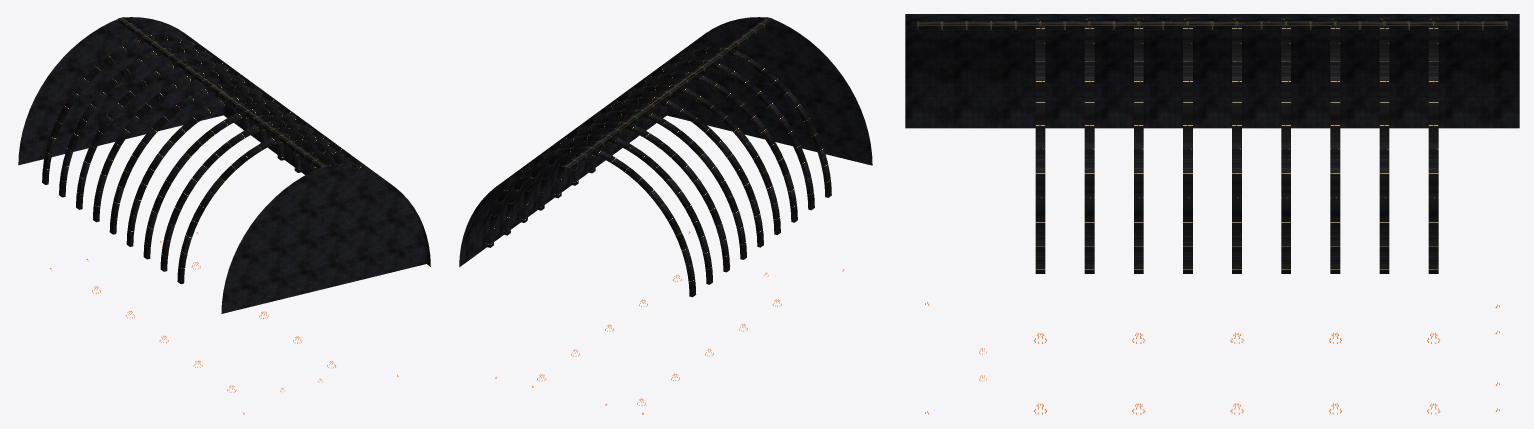
Rendered from BossHallNoShadow.fbx.
3 views of the same model, side by side, from view 1: azimuth 30°, elevation 25°; view 2: azimuth 150°, elevation 25°; view 3: azimuth 270°, elevation 25° (orthographic). The views are drawn at different scales.
Parts seen in each view (by area): view 1: Gable.001, Gable, Vault, Rib.006, Rib.001, Rib, Rib.002, Rib.005, Rib.007, Rib.003, Rib.004, Rib.008 (+1 smaller); view 2: Gable.001, Vault, Rib, Rib.005, Rib.001, Rib.006, Rib.002, Rib.007, Rib.003, Rib.008, Rib.004, RidgeRib; view 3: Vault, RidgeRib, Rib, Rib.001, Rib.008, Rib.004, Rib.005, Rib.002, Rib.003, Rib.006, Rib.007, Flames.
Part boxes in pixels (x1,y1,x2,y2): Gable.001: (221,165,426,313); Gable: (18,17,223,165); Vault: (189,36,430,266); Rib.006: (93,71,301,222); Rib.001: (76,59,284,209); Rib: (42,34,250,184); Rib.002: (109,84,316,234); Rib.005: (59,47,267,197); Rib.007: (126,96,330,246); Rib.003: (143,108,343,259); Rib.004: (177,133,365,284); Rib.008: (160,121,355,271); Gable.001: (667,17,872,165); Vault: (459,32,706,267); Rib: (487,146,696,297); Rib.005: (504,133,712,284); Rib.001: (521,121,729,272); Rib.006: (538,109,746,259); Rib.002: (555,96,763,247); Rib.007: (572,84,780,235); Rib.003: (589,71,797,222); Rib.008: (606,59,814,210); Rib.004: (623,47,831,197); RidgeRib: (563,17,772,170); Vault: (905,14,1519,128); RidgeRib: (917,21,1507,29); Rib: (1428,14,1438,273); Rib.001: (1330,14,1340,273); Rib.008: (1084,14,1094,273); Rib.004: (1035,14,1045,273); Rib.005: (1379,14,1389,273); Rib.002: (1232,14,1241,273); Rib.003: (1134,14,1143,273); Rib.006: (1281,14,1290,273); Rib.007: (1183,14,1192,273); Flames: (925,302,1499,414).
Bounding box in the file's own units: 2800 × 5000 × 3179.
3 materials, 3 textured.
